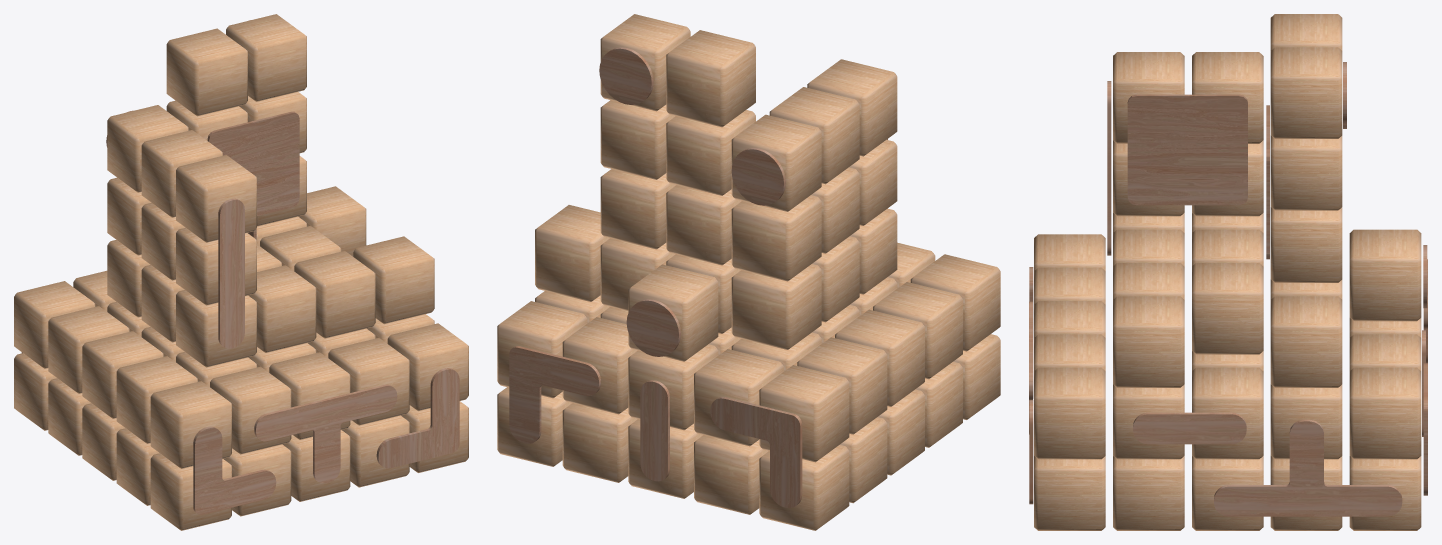
Rendered from level_96.fbx.
3 renders of one model, left to right at view 1: azimuth 30°, elevation 25°; view 2: azimuth 150°, elevation 25°; view 3: azimuth 270°, elevation 25°, orthographic. The views are drawn at different scales.
Visible parts, largest first — view 1: Cube.071, obj_obs_square.004, obj_obs_T.002, Cube.211, Cube.066, Cube.052, Cube.053, Cube.072, Cube.051, obj_obs_L.001, obj_obs_L.006, Cube.004 (+38 smaller); view 2: Cube.071, Cube.063, Cube.057, Cube.060, Cube.020, obj_obs_L.002, obj_obs_L.003, Cube.073, Cube.069, Cube.068, Cube.065, Cube.064 (+36 smaller); view 3: obj_obs_square.001, obj_obs_T.001, Cube.024, Cube.073, Cube.072, Cube.060, Cube.004, Cube.053, Cube.056, Cube.065, Cube.070, Cube.029 (+30 smaller).
Part boxes in pixels (x1,y1,x2,y2): Cube.071: [166, 28, 247, 116]; obj_obs_square.004: [207, 111, 299, 215]; obj_obs_T.002: [254, 384, 397, 483]; Cube.211: [150, 381, 231, 468]; Cube.066: [176, 155, 256, 242]; Cube.052: [294, 251, 375, 338]; Cube.053: [353, 236, 434, 324]; Cube.072: [226, 14, 306, 101]; Cube.051: [248, 265, 316, 352]; obj_obs_L.001: [376, 368, 459, 468]; obj_obs_L.006: [193, 426, 276, 514]; Cube.004: [387, 323, 468, 411]; Cube.071: [666, 30, 755, 127]; Cube.063: [731, 195, 821, 281]; Cube.057: [731, 264, 821, 349]; Cube.060: [535, 205, 609, 301]; Cube.020: [759, 365, 849, 462]; obj_obs_L.002: [710, 397, 802, 507]; obj_obs_L.003: [509, 346, 600, 443]; Cube.073: [628, 264, 718, 361]; Cube.069: [666, 110, 755, 195]; Cube.068: [731, 114, 821, 211]; Cube.065: [600, 169, 676, 249]; Cube.064: [666, 185, 741, 265]; obj_obs_square.001: [1127, 94, 1247, 205]; obj_obs_T.001: [1214, 419, 1402, 516]; Cube.024: [1349, 367, 1421, 459]; Cube.073: [1349, 229, 1421, 321]; Cube.072: [1270, 47, 1342, 138]; Cube.060: [1270, 296, 1342, 387]; Cube.004: [1034, 367, 1105, 459]; Cube.053: [1113, 296, 1184, 387]; Cube.056: [1192, 263, 1263, 354]; Cube.065: [1270, 207, 1342, 282]; Cube.070: [1270, 135, 1342, 210]; Cube.029: [1034, 456, 1105, 530].
Bounding box in the file's own units: 10.94 × 13.03 × 11.12.
